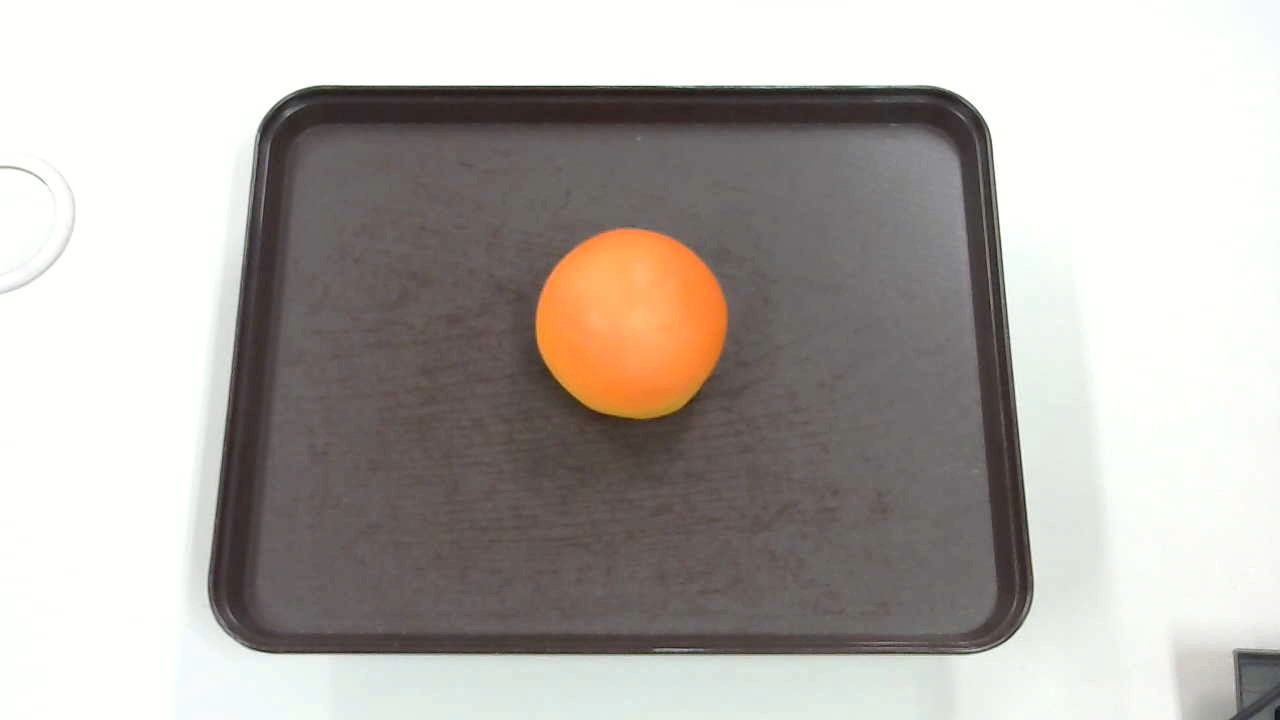bun: (534, 227, 730, 419)
